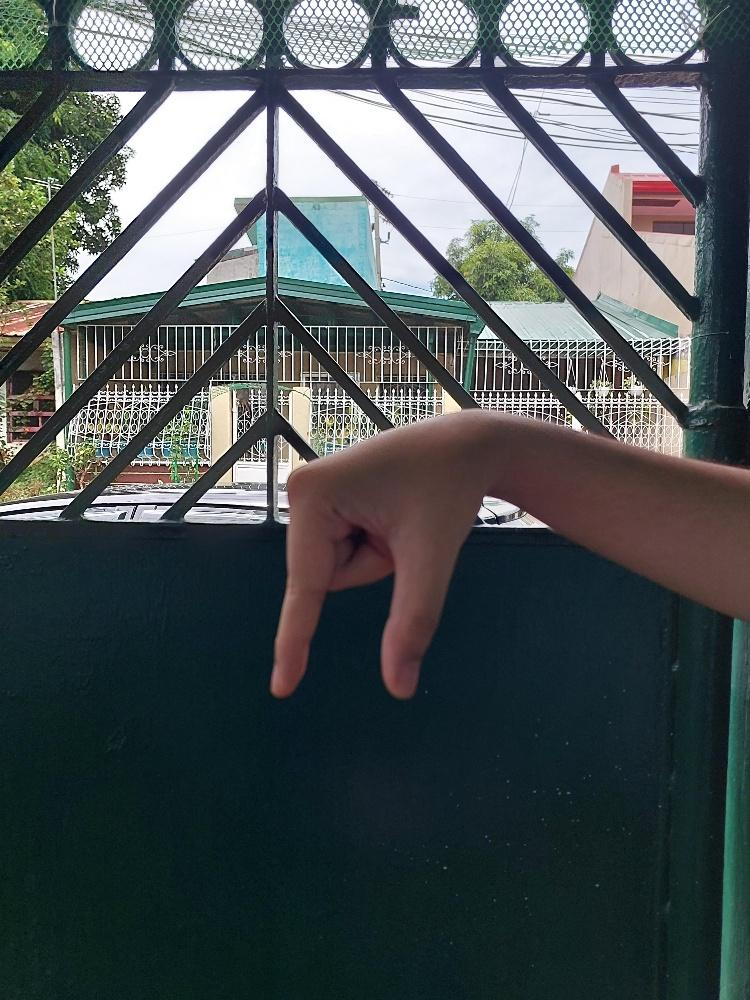q: (267, 404, 499, 703)
